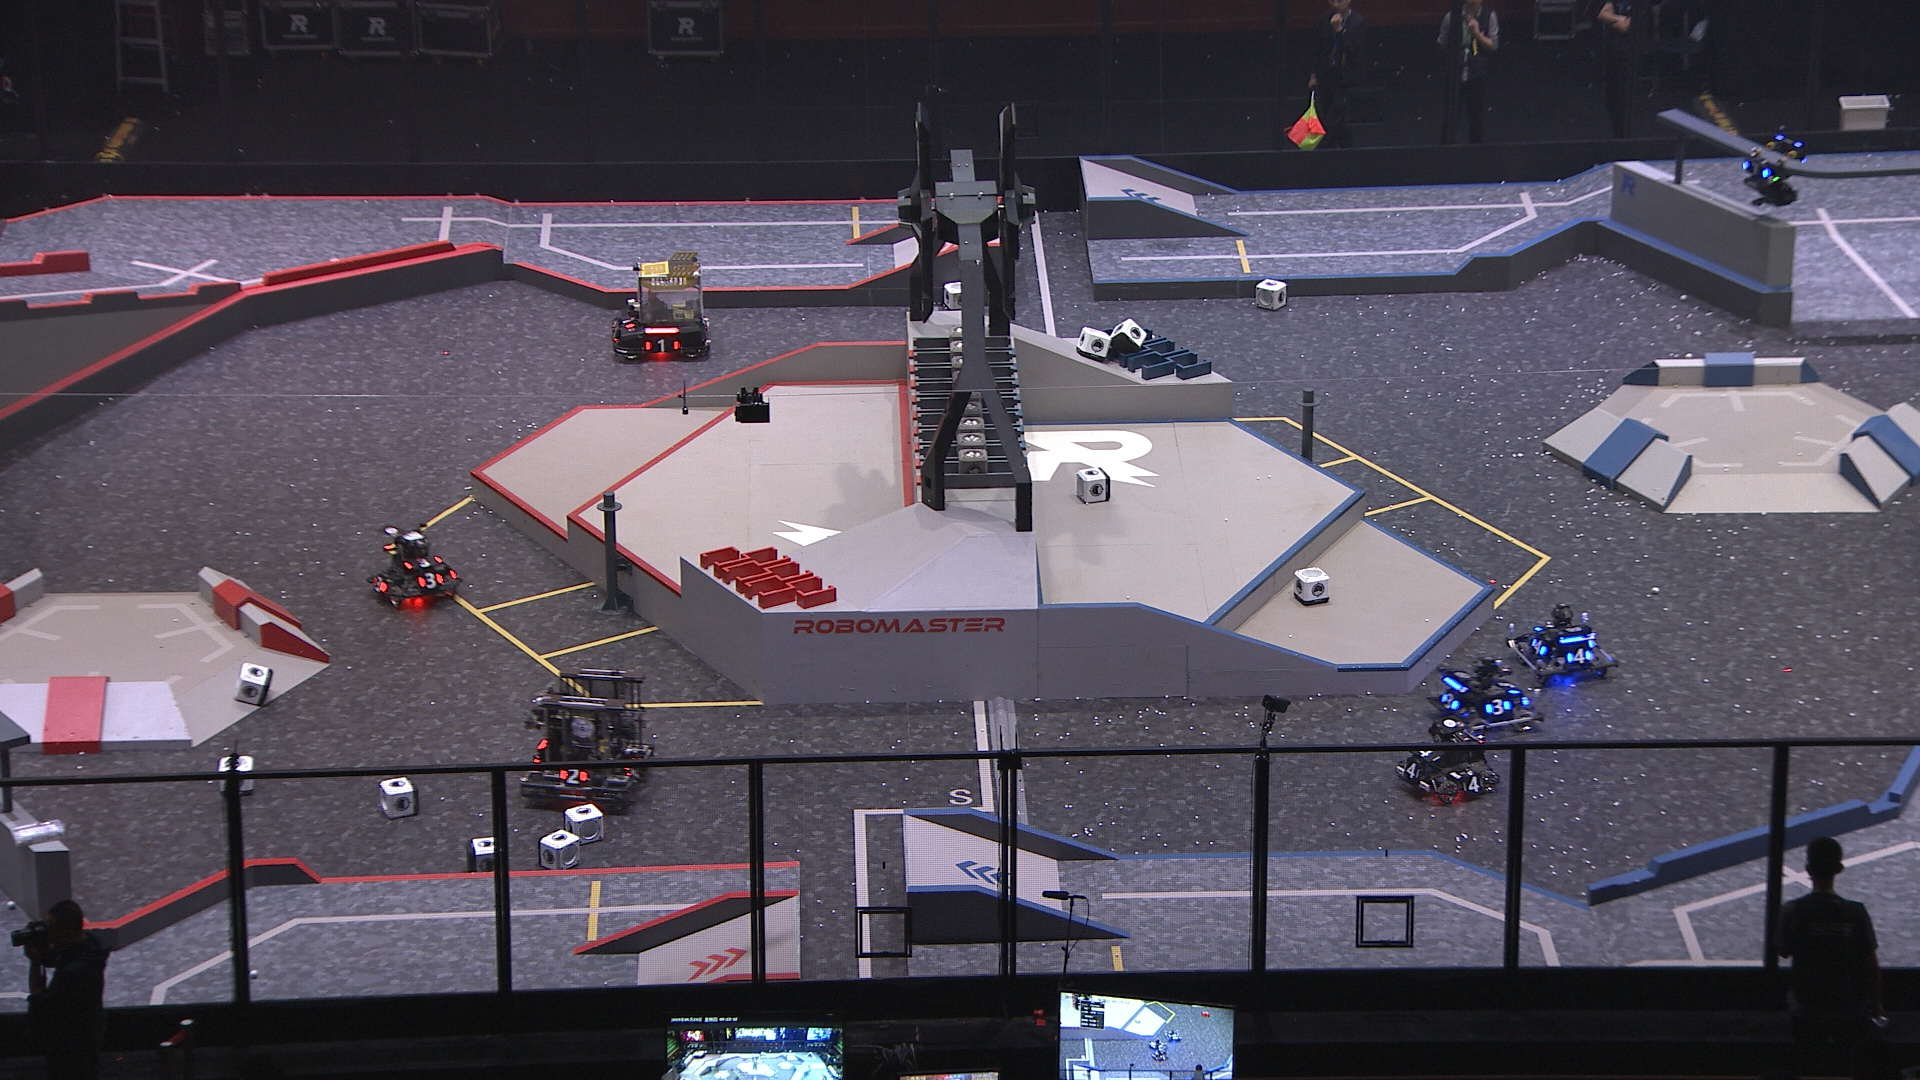armor: (1742, 158, 1774, 179), (1495, 674, 1522, 698), (1563, 647, 1596, 666), (642, 338, 680, 353), (556, 766, 588, 785), (414, 568, 443, 588), (401, 555, 443, 568), (1416, 742, 1443, 764), (1485, 698, 1513, 717), (1462, 771, 1484, 796), (1439, 688, 1460, 711), (367, 575, 392, 593), (618, 309, 638, 330), (1404, 764, 1423, 785), (1528, 638, 1549, 657)
car: (518, 659, 661, 812), (607, 247, 716, 363), (1387, 713, 1498, 807), (1425, 655, 1545, 741), (1505, 600, 1617, 688), (363, 524, 465, 613)
watcher: (1738, 123, 1813, 214)
